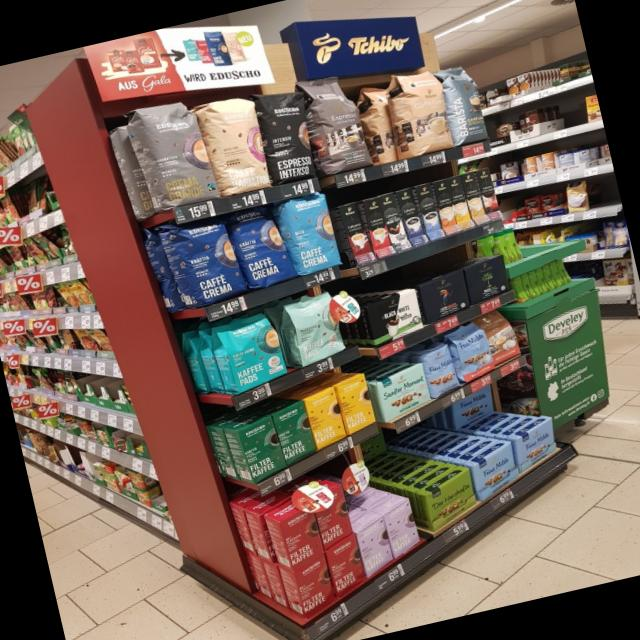BM Gemahlen: (463, 253, 512, 306)
BW Gemahlen: (363, 286, 425, 350)
Barista CC: (431, 58, 492, 149)
CC Mild: (373, 64, 458, 162)
CC Vollmundig: (484, 316, 524, 366)
Espresso Aromatisch: (287, 66, 378, 182)
FM 36 Pads: (447, 325, 498, 385)
FM Bohne: (417, 342, 463, 401)
FM Gemahlen: (469, 439, 521, 502), (512, 416, 557, 473)
Herzhatfe Mundig: (424, 466, 478, 533)
LG Gemahlen: (416, 267, 473, 326)
SM Gemahlen: (374, 361, 434, 424)
Simo CC Colombia: (474, 166, 502, 222)
Simo CCMild bigpack: (447, 173, 474, 230)
Simo CCVollmundig bigpack: (430, 177, 458, 235)
Simo Decaff: (459, 169, 489, 227)
Simo Es Elegant: (360, 195, 395, 260)
Simo Es Kraft: (336, 200, 375, 267)
Simo Kaffee BW: (378, 189, 412, 253)
Simo Kaffee Kraft: (393, 185, 429, 248)
Simo Kaffee Mild: (413, 181, 445, 240)
